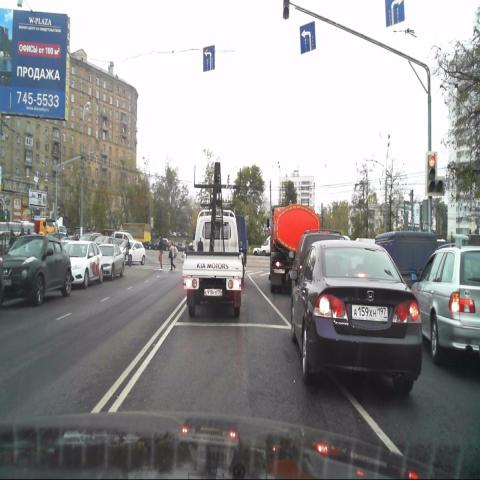5_15_2: (203, 44, 217, 72)
